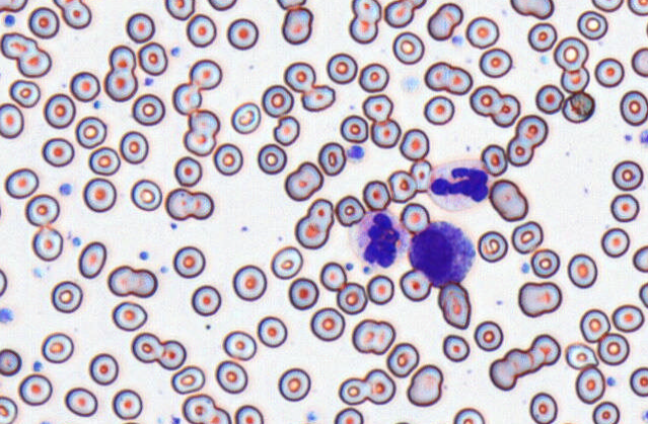GRAN: (422, 159, 501, 216)
LYM: (410, 220, 480, 289)
MONO: (352, 208, 408, 271)
PLT: (343, 143, 369, 167), (0, 305, 17, 328), (57, 182, 74, 198), (3, 12, 17, 30), (70, 234, 83, 249), (32, 359, 45, 373), (639, 130, 648, 149), (142, 75, 155, 88), (170, 45, 182, 58), (306, 410, 318, 423), (605, 375, 616, 388), (138, 250, 148, 262), (170, 415, 183, 424), (641, 408, 648, 424), (92, 100, 103, 110), (625, 132, 634, 143), (158, 263, 167, 273)
RBC: (294, 198, 334, 249), (182, 108, 220, 156), (488, 178, 528, 221), (107, 264, 157, 298), (424, 61, 472, 95), (517, 281, 562, 317), (165, 187, 214, 220), (437, 282, 471, 329), (406, 364, 443, 407), (351, 318, 395, 354), (284, 161, 323, 201), (427, 2, 463, 40), (232, 264, 267, 301), (553, 36, 588, 71), (281, 6, 313, 44), (383, 0, 426, 28), (310, 307, 345, 341), (82, 177, 116, 212), (363, 368, 396, 404), (386, 342, 419, 377), (24, 193, 59, 226), (43, 93, 76, 128), (31, 225, 63, 261), (575, 366, 605, 404), (399, 268, 432, 302), (277, 367, 310, 401), (215, 360, 248, 394), (270, 245, 303, 279), (4, 167, 39, 199), (104, 68, 137, 101), (261, 84, 294, 117), (172, 245, 205, 278), (50, 280, 83, 313), (528, 333, 560, 367), (18, 373, 52, 405), (511, 220, 543, 254), (465, 16, 499, 48), (131, 93, 165, 125), (16, 46, 51, 77), (579, 308, 610, 343), (111, 301, 147, 331), (469, 84, 502, 116), (189, 58, 222, 90), (597, 332, 629, 365), (562, 91, 595, 123), (130, 178, 162, 211), (392, 31, 424, 64), (226, 17, 258, 50), (64, 386, 98, 417), (478, 47, 512, 78), (185, 13, 216, 47), (567, 253, 597, 288), (0, 31, 37, 59), (78, 241, 106, 278), (75, 116, 107, 148), (611, 159, 643, 191), (283, 61, 316, 92), (336, 281, 367, 314), (288, 277, 319, 310), (28, 6, 59, 39), (212, 142, 243, 175), (230, 101, 261, 134), (41, 332, 74, 363), (490, 93, 520, 127), (387, 169, 417, 203), (222, 330, 256, 360), (137, 41, 167, 75), (300, 83, 335, 112), (170, 365, 205, 394), (317, 141, 346, 176), (619, 90, 647, 126), (131, 332, 163, 363), (399, 202, 430, 234), (334, 194, 365, 226), (477, 230, 508, 262), (326, 52, 357, 84), (182, 393, 215, 423), (172, 82, 202, 115), (399, 128, 429, 161), (88, 352, 118, 385), (41, 137, 74, 167), (119, 130, 148, 164), (111, 388, 142, 419), (69, 71, 100, 102), (257, 315, 287, 347), (191, 284, 221, 316), (576, 10, 608, 40), (488, 358, 517, 391), (156, 339, 186, 370), (370, 118, 401, 148), (473, 320, 503, 351), (125, 12, 155, 43), (257, 143, 287, 174), (423, 95, 454, 125), (358, 62, 389, 92), (362, 179, 391, 211), (88, 146, 120, 175), (565, 342, 598, 370), (611, 304, 644, 332), (530, 248, 560, 278), (527, 22, 557, 52), (600, 227, 630, 257), (594, 57, 624, 87), (503, 347, 534, 376), (362, 93, 393, 122), (535, 83, 564, 114), (173, 156, 202, 187), (529, 391, 557, 423), (8, 79, 40, 107), (480, 143, 507, 176), (366, 274, 394, 305), (0, 102, 24, 138), (339, 114, 368, 143), (610, 193, 639, 222), (338, 377, 368, 405), (319, 261, 347, 291), (510, 0, 554, 19), (506, 136, 533, 166), (560, 66, 589, 93), (108, 44, 136, 71), (442, 334, 469, 362), (409, 159, 432, 191), (351, 0, 381, 22), (164, 0, 195, 20), (592, 401, 620, 423), (0, 348, 21, 376), (629, 366, 647, 397), (234, 404, 263, 423), (452, 407, 485, 423), (333, 407, 363, 423), (631, 47, 647, 77), (0, 395, 17, 423), (205, 406, 231, 423), (632, 244, 647, 272), (591, 0, 623, 12), (207, 0, 237, 11), (0, 0, 27, 12), (276, 0, 306, 10), (627, 0, 647, 15), (52, 0, 78, 9), (638, 282, 647, 308), (0, 268, 7, 296)
Schistocyte: (274, 118, 301, 146)
